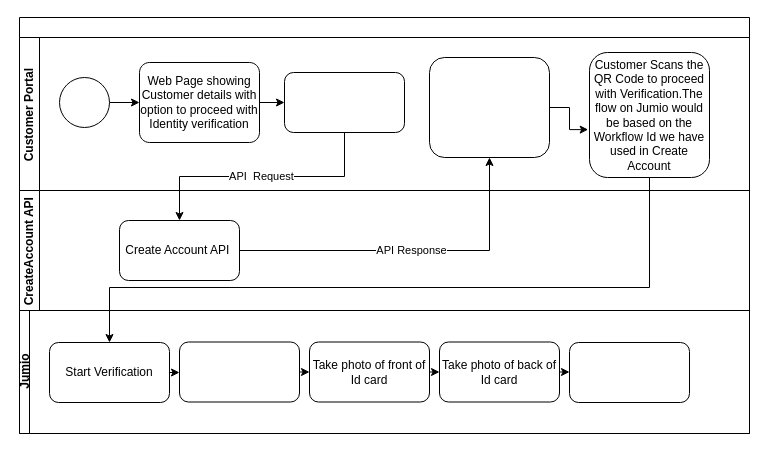
Image size: 767x451. Some labels were removed from this diagram. Here are the shapes that lost their labels. From the top down, the centre of each, then its label:
At pixel 344 102: "User Click on Button to Generate QR code for verification".
At pixel 489 107: "QR Code is generated using the URL received in web.href propery in the response".
At pixel 239 371: "Option to continue with Mobile or WebCam".
At pixel 629 372: "Take Selfie".
